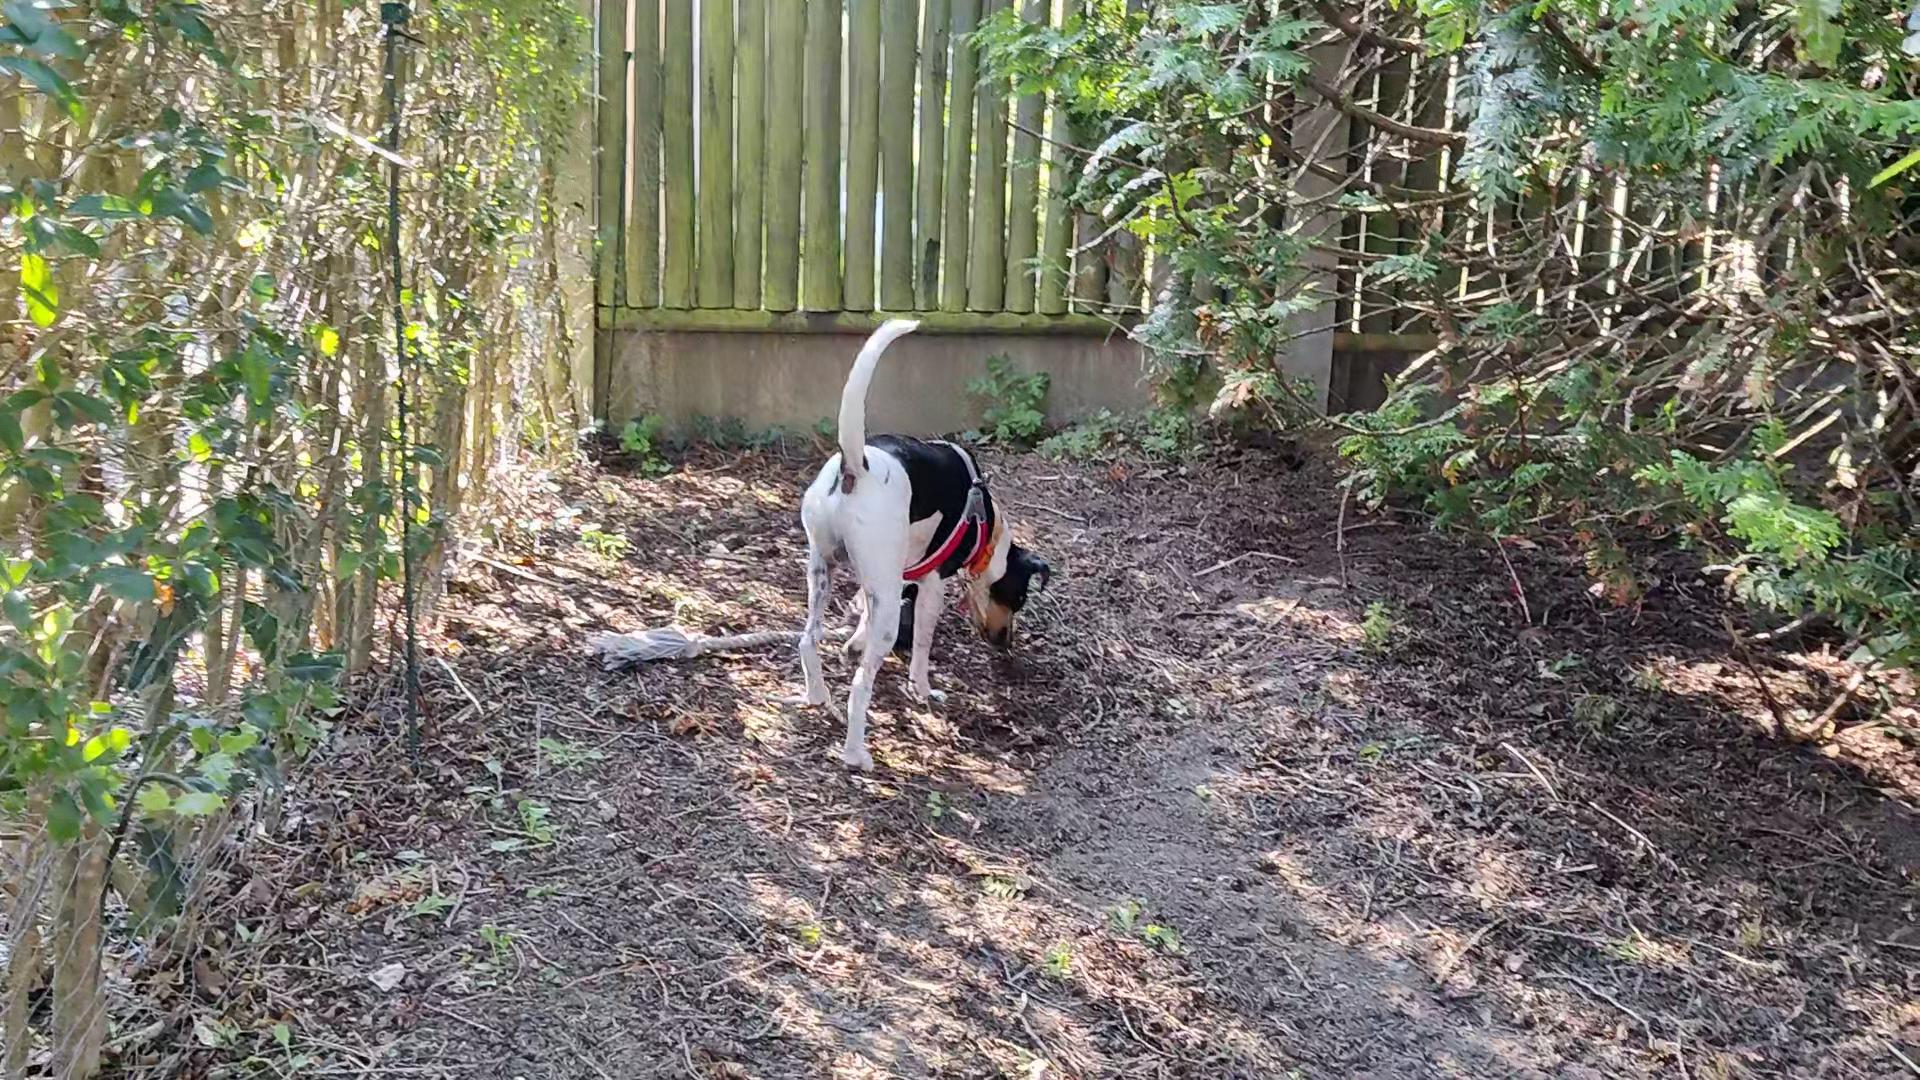Dog: (785, 295, 1072, 785)
